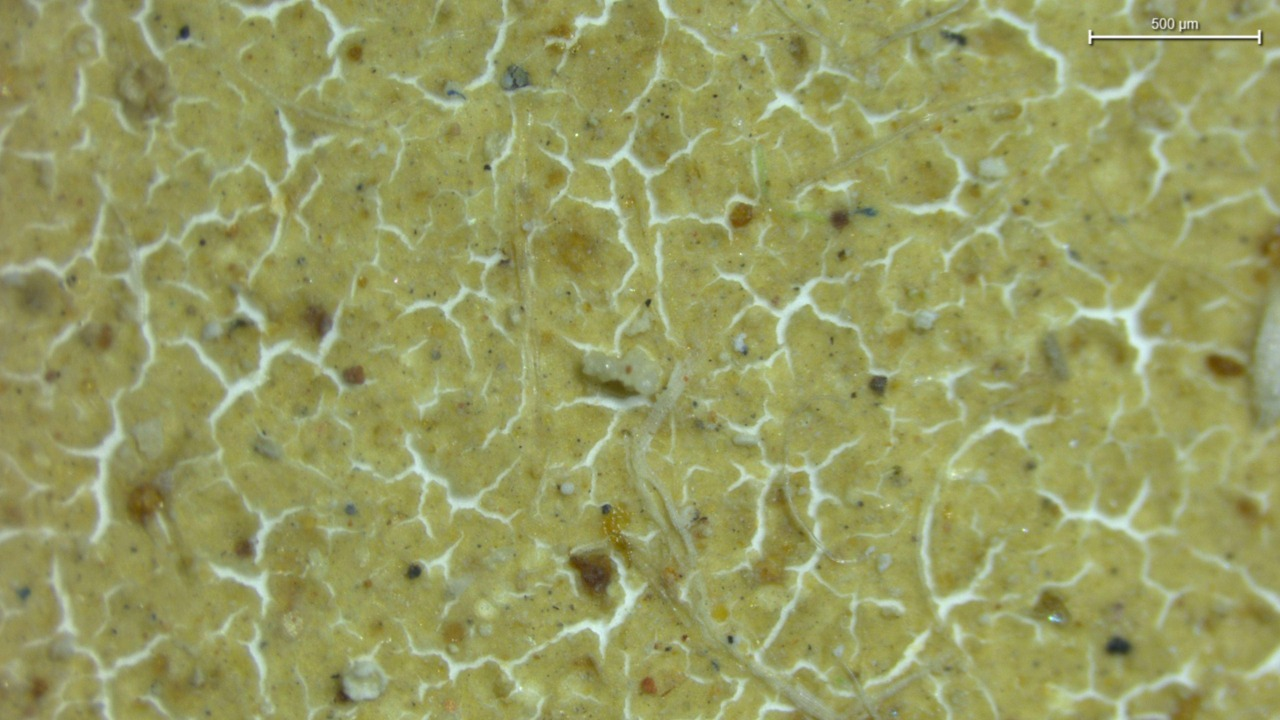microplastic_fragment: (572, 348, 661, 396), (344, 661, 386, 704), (978, 157, 1005, 178), (914, 310, 937, 330), (560, 480, 575, 495)
